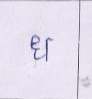anusvara: (31, 37, 40, 44)
